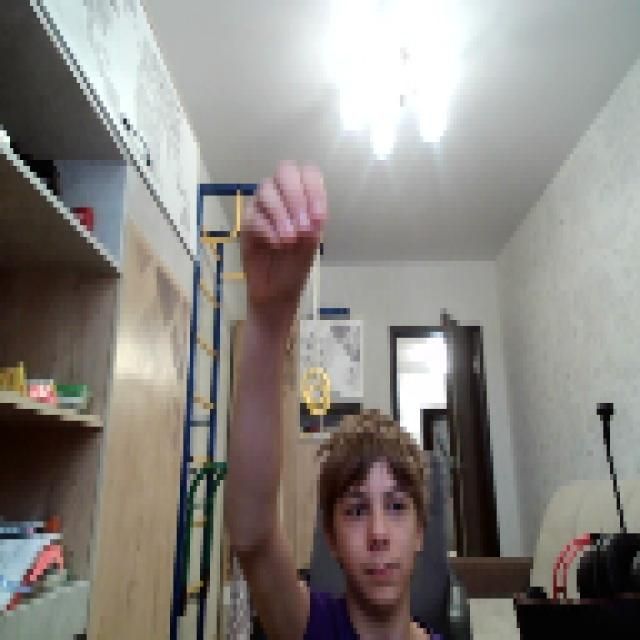left_click: (240, 154, 323, 308)
